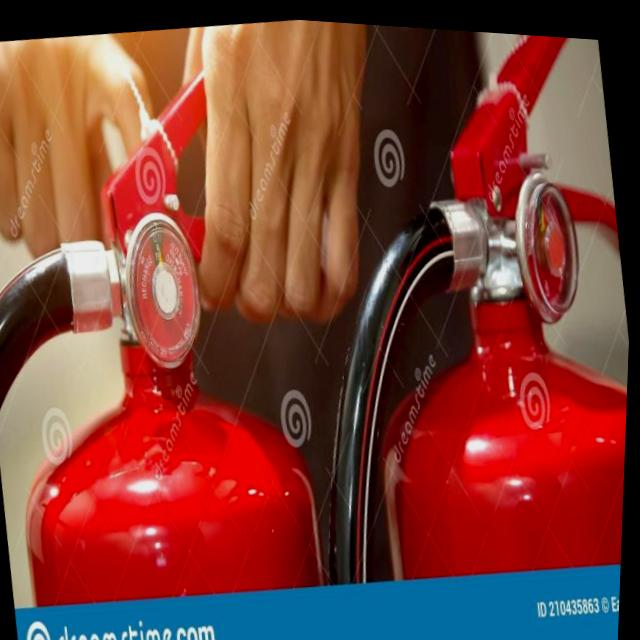FireExtinguisher: (0, 3, 358, 640), (252, 14, 640, 600)
